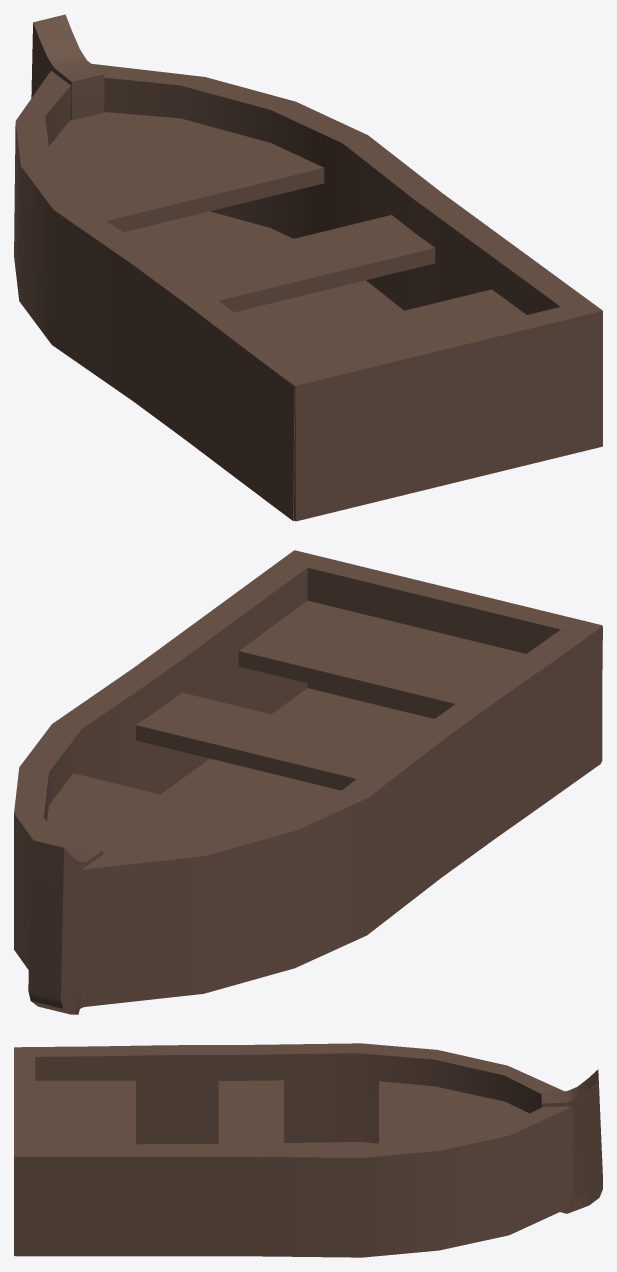
The model's file is Village_Boat.fbx.
3 views of the same model, one above another, from view 1: azimuth 30°, elevation 25°; view 2: azimuth 150°, elevation 25°; view 3: azimuth 270°, elevation 25° (orthographic). The views are drawn at different scales.
Visible parts, largest first — view 1: pCube10; view 2: pCube10; view 3: pCube10.
Boxes of the visible parts, x1,y1,x2,y2 form: pCube10: (14, 14, 602, 521); pCube10: (14, 550, 602, 1014); pCube10: (14, 1043, 602, 1257).
Size of the model in its own units: 4.07 by 2.21 by 9.02.
